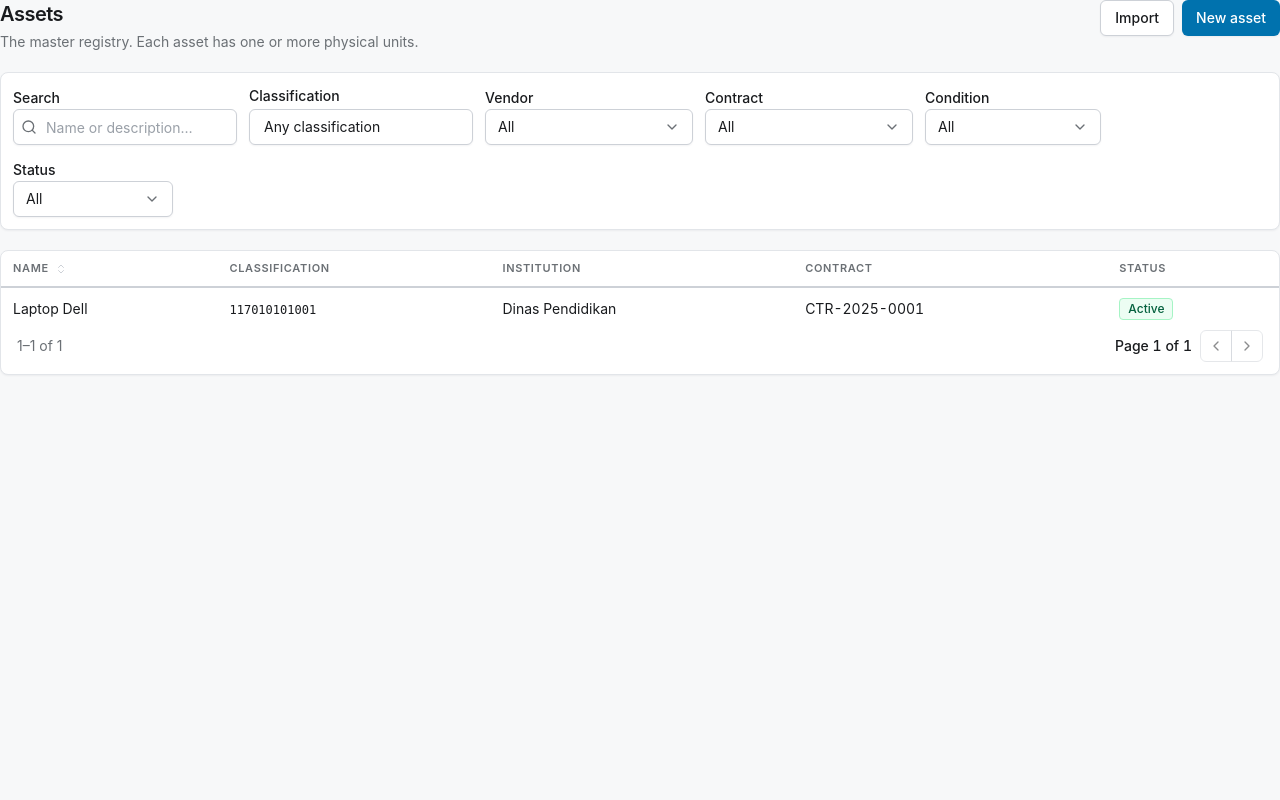
Test case: AssetsPage › filters classification through the shared picker, not a flat select
expect the link "Laptop Dell" is shown: met, box [13,300,88,317]
Note: No dropdown of thousands of leaves — a button that opens the picker.
What coordinates should you click on to do the following:
click the button "Any classification"
I would click on:
 (361, 127)
Its box is [249,109,473,145].
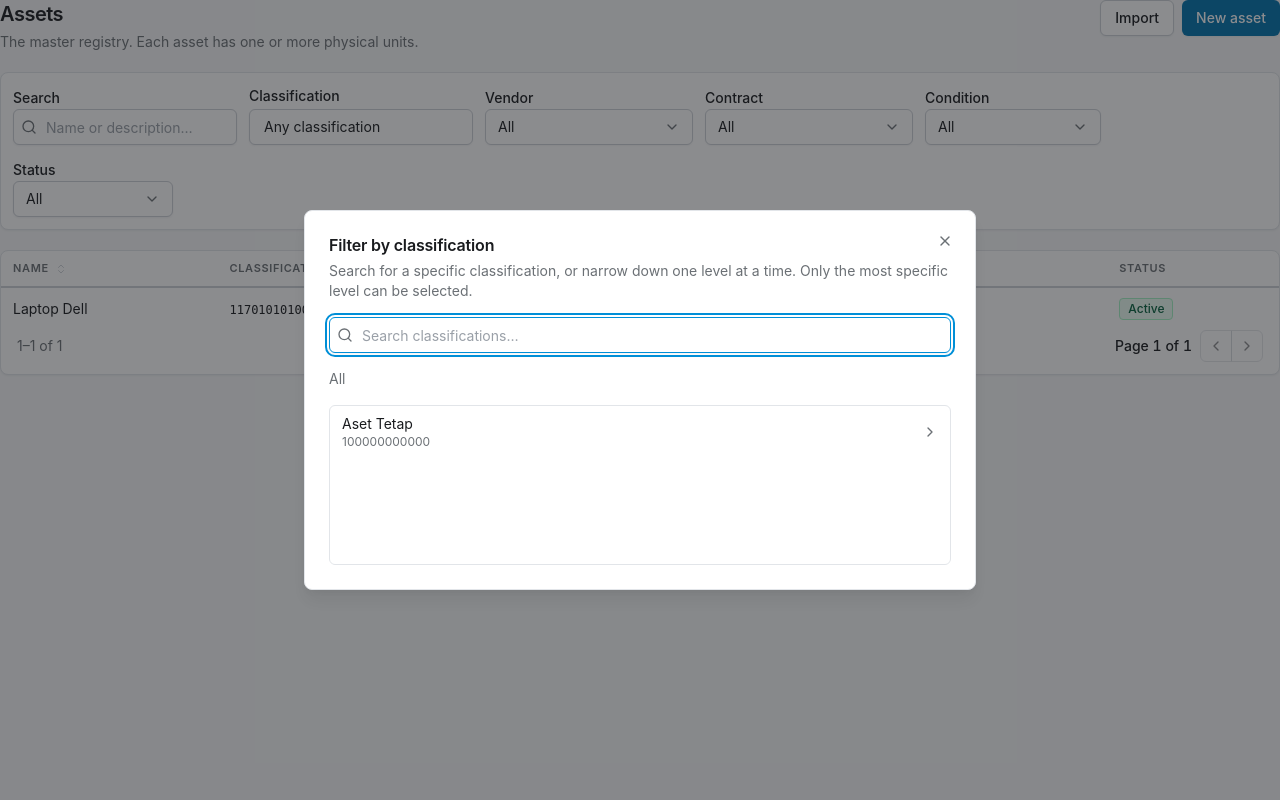
expect the dialog shows "Search for a specific classification": met, box [329,262,948,299]
